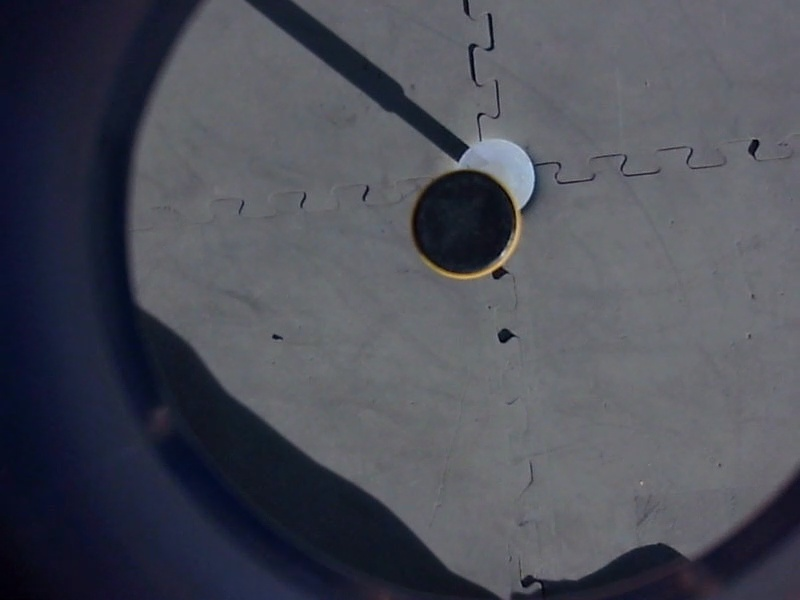tip: (406, 166, 526, 286)
